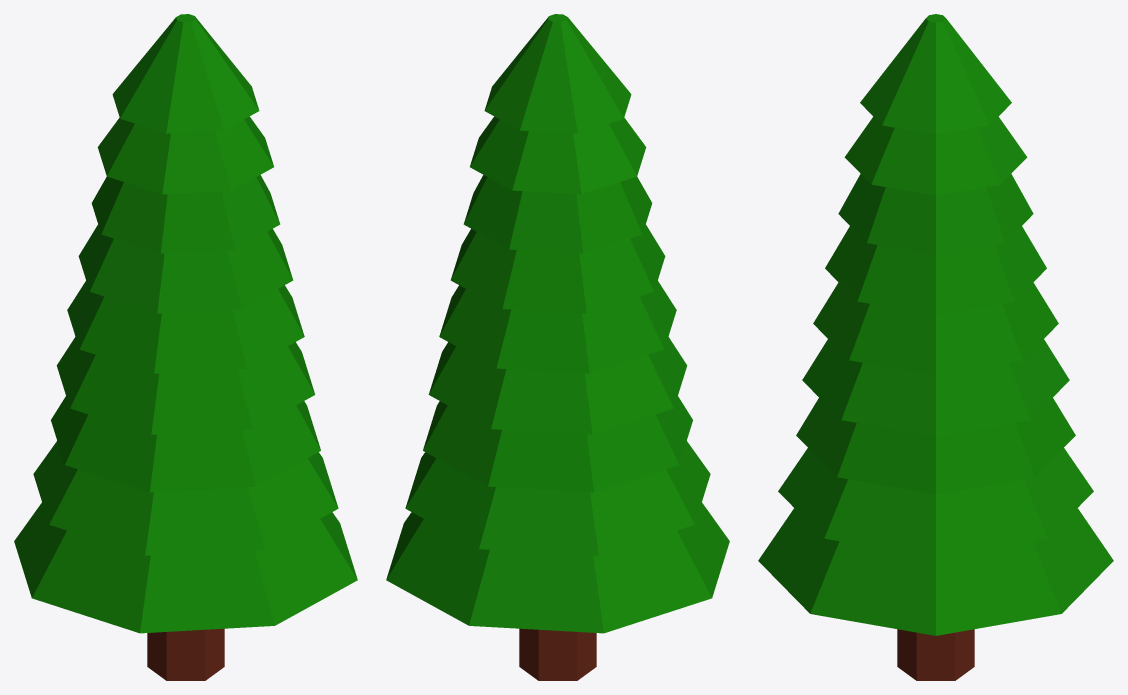
Rendered from FirTree.fbx.
The picture shows the model from 3 angles, left to right: view 1: azimuth 30°, elevation 25°; view 2: azimuth 150°, elevation 25°; view 3: azimuth 270°, elevation 25°; orthographic projection.
Parts seen in each view (by area): view 1: Cube; view 2: Cube; view 3: Cube.
Part boxes in pixels (box(x1,y1,x2,y2)): Cube: box(14, 14, 357, 680); Cube: box(386, 14, 729, 680); Cube: box(758, 14, 1113, 680).
Size of the model in its own units: 116 by 116 by 233.
